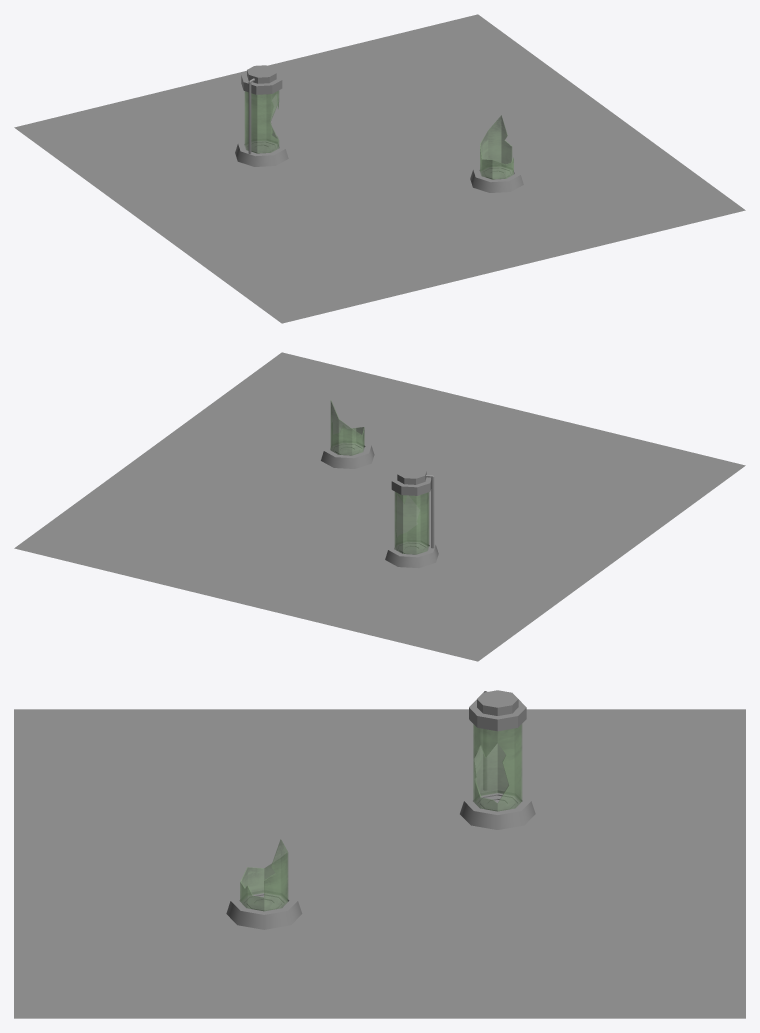
The model's file is Planttile_M1.fbx.
3 renders of one model, top to bottom at view 1: azimuth 30°, elevation 25°; view 2: azimuth 150°, elevation 25°; view 3: azimuth 270°, elevation 25°, orthographic. The views are drawn at different scales.
Parts seen in each view (by area): view 1: Plant_Floor, Plant_Obj1, Plant_Obj2; view 2: Plant_Floor, Plant_Obj1, Plant_Obj2; view 3: Plant_Floor, Plant_Obj1, Plant_Obj2.
Part boxes in pixels (x1,y1,x2,y2): Plant_Floor: (14, 14, 745, 323); Plant_Obj1: (235, 65, 288, 166); Plant_Obj2: (470, 115, 523, 192); Plant_Floor: (14, 352, 745, 661); Plant_Obj1: (385, 466, 438, 568); Plant_Obj2: (321, 400, 374, 468); Plant_Floor: (14, 709, 745, 1018); Plant_Obj1: (460, 690, 535, 829); Plant_Obj2: (226, 839, 302, 929).
Size of the model in its own units: 750 by 130 by 750.
Materials: 3 (1 with a texture image).
